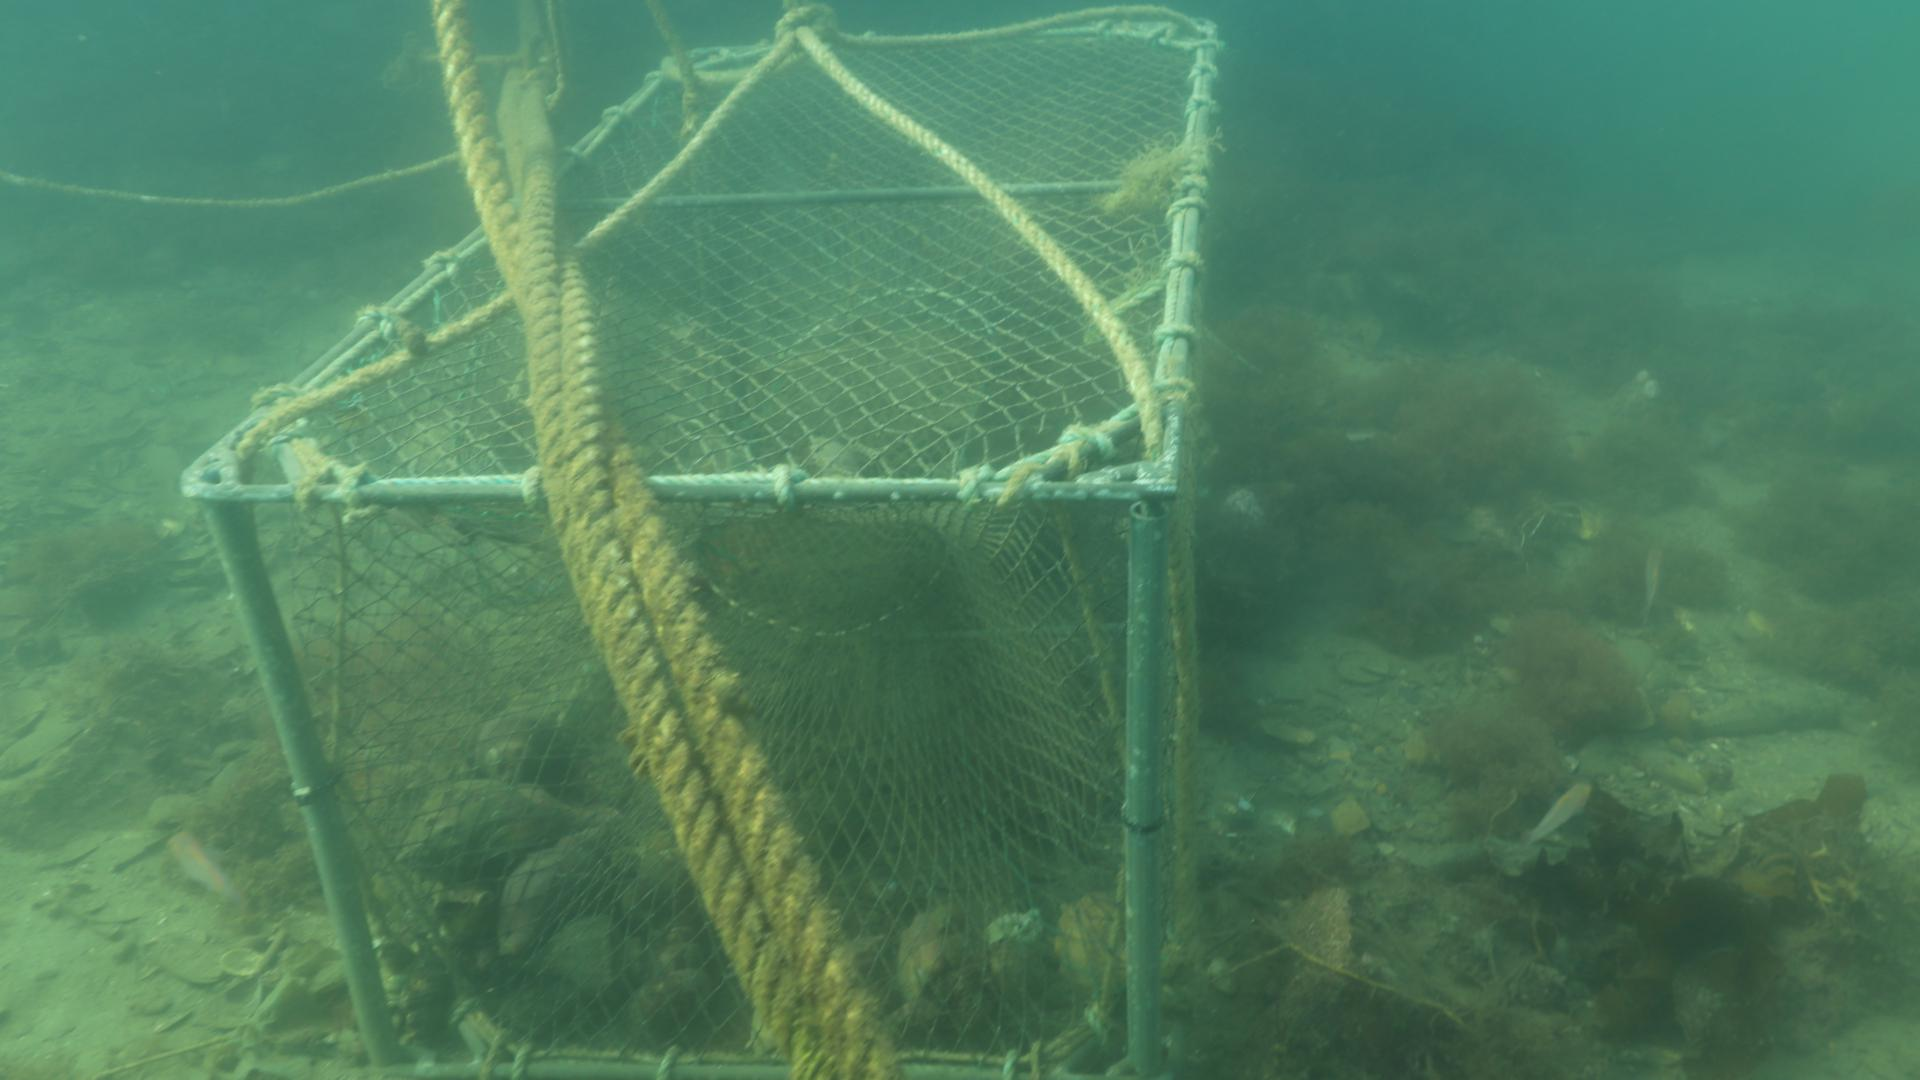bundle of ropes: (431, 0, 907, 1080)
rectangular fish trap: (175, 13, 1224, 1080)
